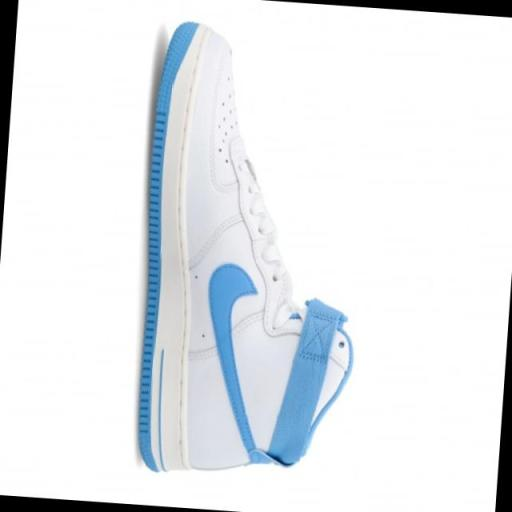Nike: (192, 256, 271, 462)
